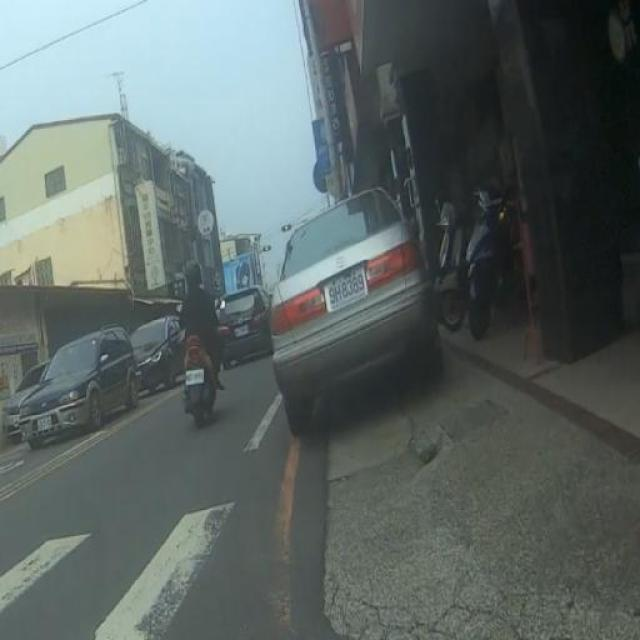Legalparking: (433, 172, 535, 367)
illegalparking: (231, 180, 452, 438)
